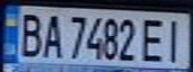2: (118, 15, 142, 63)
4: (84, 14, 106, 61)
7: (63, 11, 87, 60)
8: (103, 15, 121, 61)
A: (39, 10, 66, 60)
B: (15, 9, 45, 58)
E: (139, 15, 169, 64)
I: (160, 16, 190, 64)
